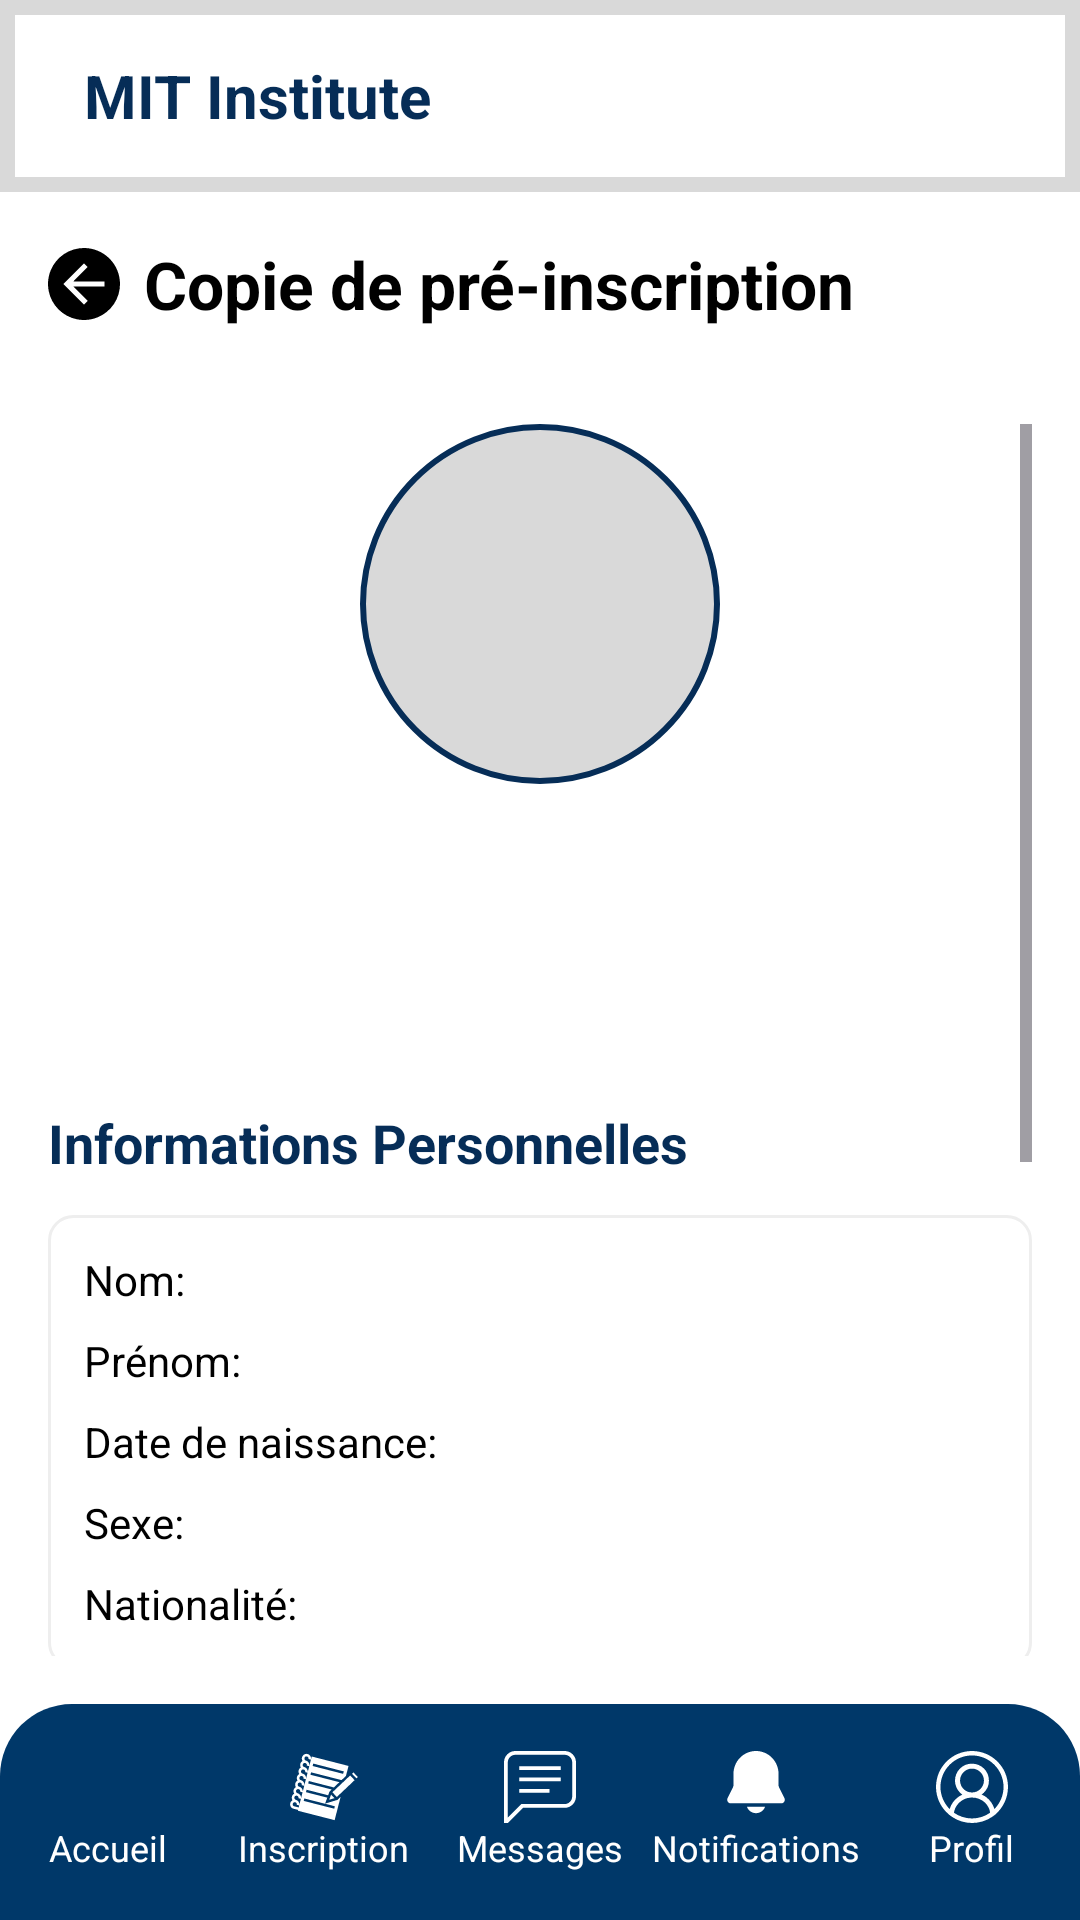

Where to tap for icons on this 1080x1920 app screen, as point (x, y):
Notes: point (324, 1786)
Retour: point (84, 284)
